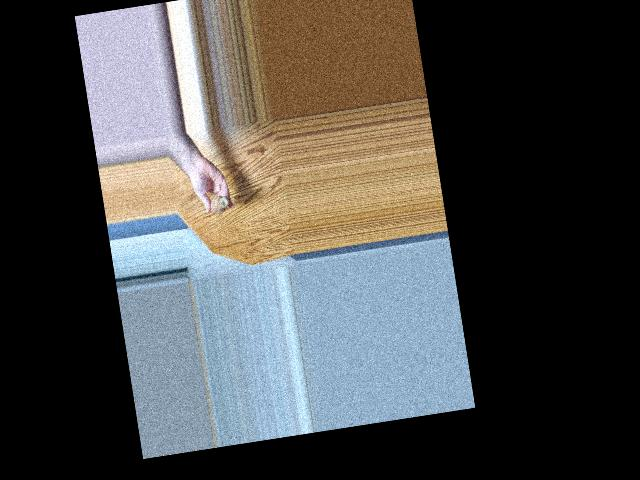sweet_potato: (208, 194, 229, 216)
